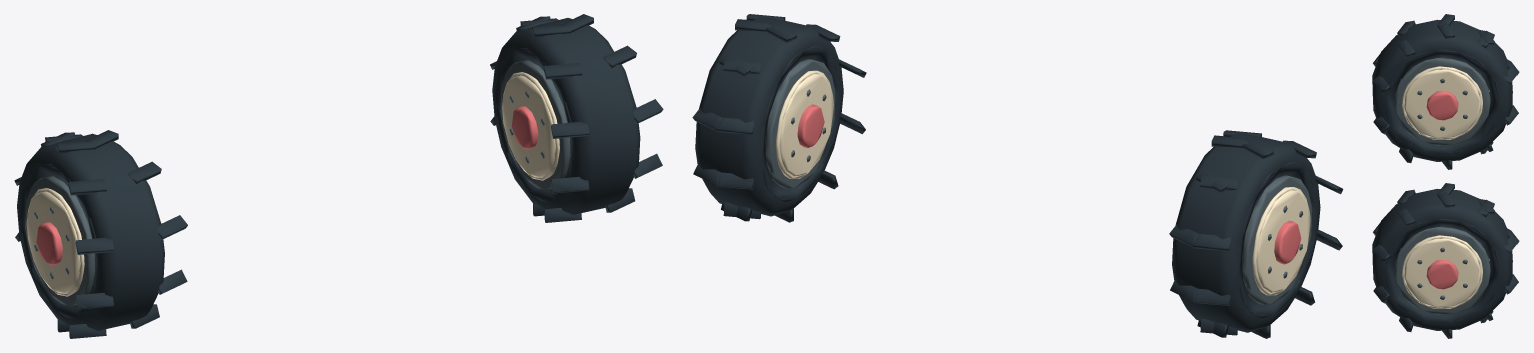
File: broto_wheels_small_mobile.glb
3 renders of one model, left to right at view 1: azimuth 30°, elevation 25°; view 2: azimuth 150°, elevation 25°; view 3: azimuth 270°, elevation 25°, orthographic. The views are drawn at different scales.
Visible parts, largest first — view 1: WheelL, WheelR; view 2: WheelL, WheelR; view 3: WheelL, WheelR.
Boxes of the visible parts, x1,y1,x2,y2 form: WheelL: [14, 130, 187, 338]; WheelR: [490, 14, 663, 222]; WheelL: [1169, 130, 1343, 338]; WheelR: [692, 14, 866, 222]; WheelL: [1372, 14, 1519, 169]; WheelR: [1372, 183, 1519, 338].
Bounding box in the file's own units: 3.64 × 1.11 × 1.09.
